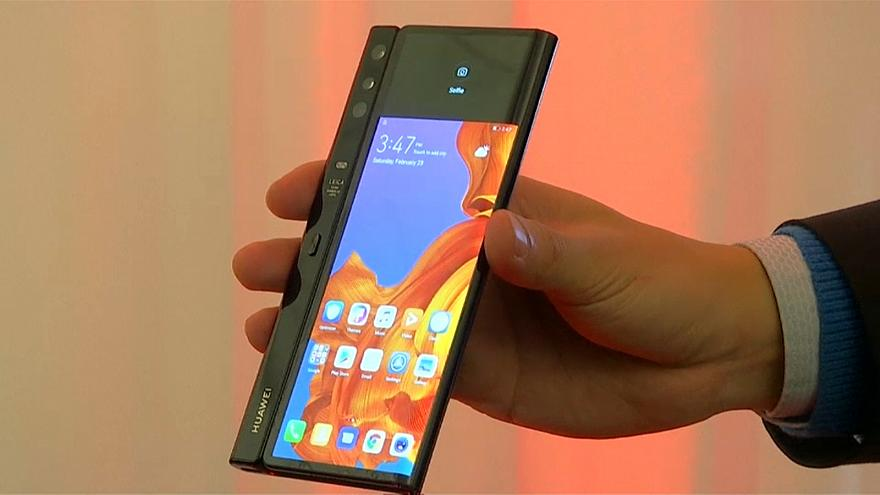phone: (221, 17, 562, 495)
